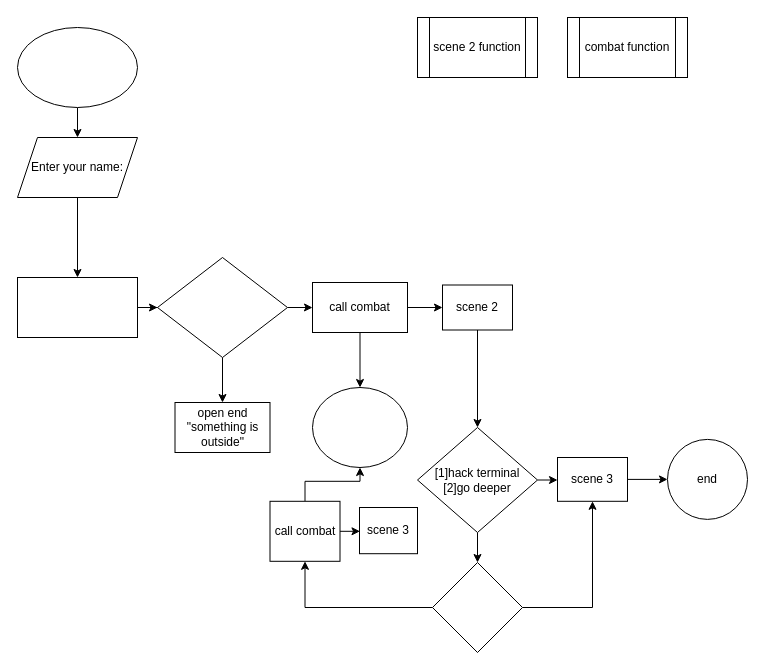
The diagram is 765 pixels wide and 670 high, and some of its shapes have lost their labels. Here are the shapes that lost their labels. From the top down, the centre of each, then its label:
the point at 77,67: Start
the point at 77,307: Story intro
the point at 222,307: [1]explore [2]go back
the point at 360,427: when player health = 0, exit the game
the point at 477,607: [1]black box [2] ignore
